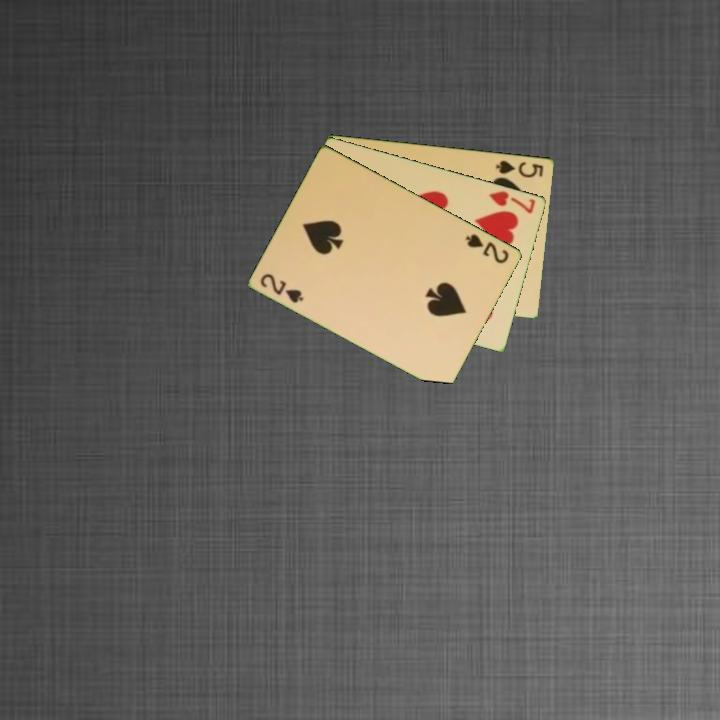2s: (462, 230, 512, 266), (257, 270, 307, 306)
5s: (493, 156, 546, 180)
7h: (486, 187, 538, 216)
